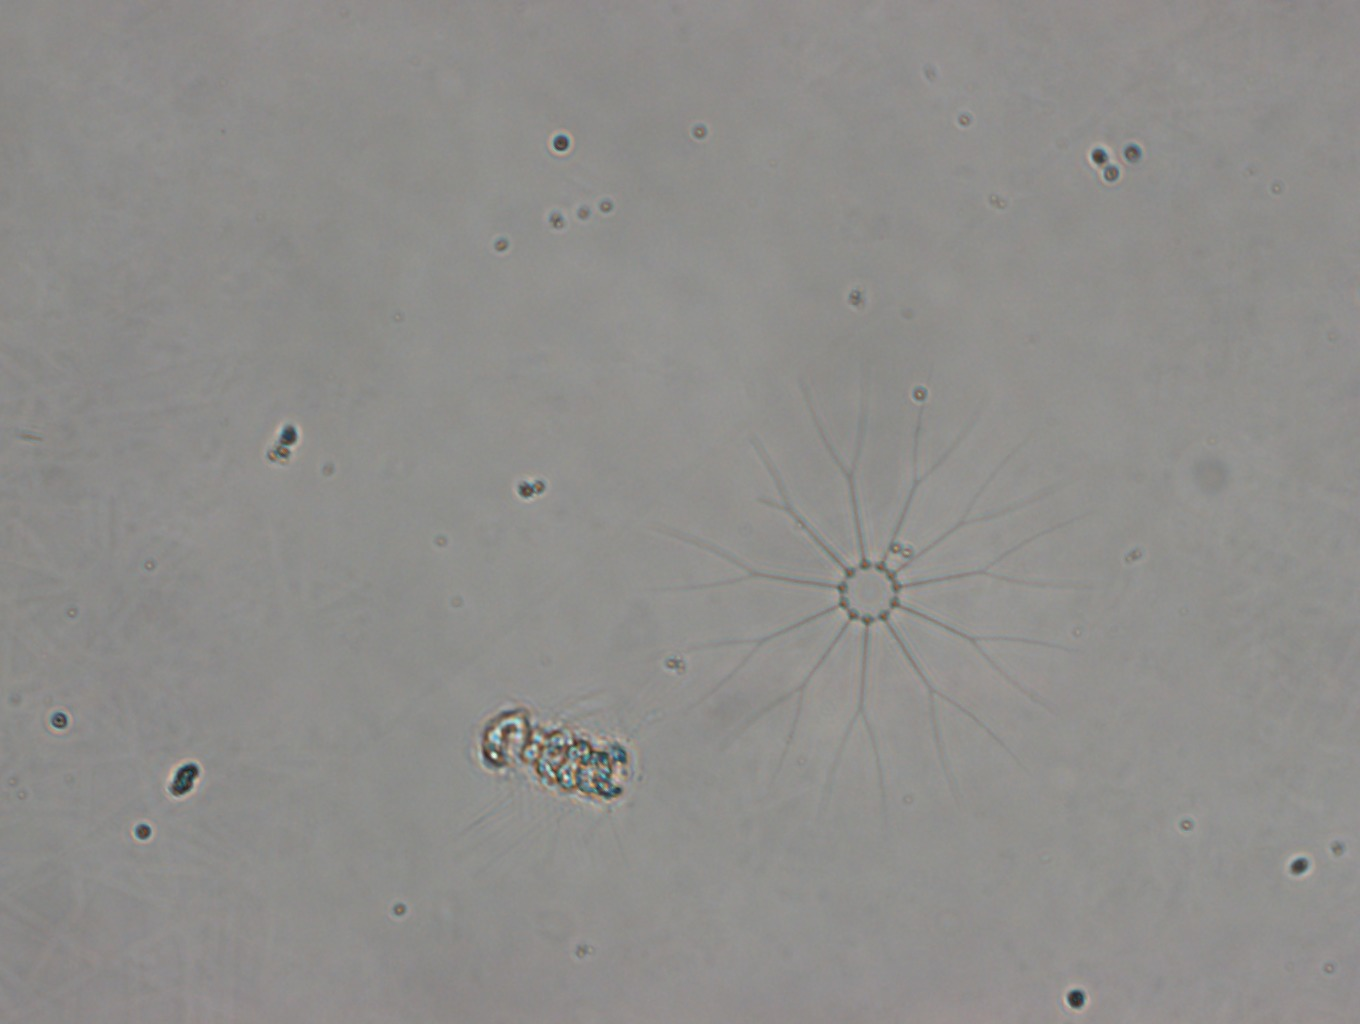bacteriastrum: (652, 381, 1100, 823)
